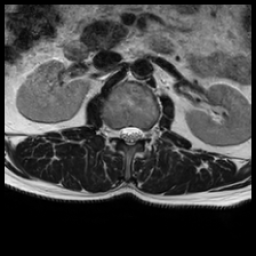CCS_normal: (125, 119, 133, 150)
LFS_normal: (141, 122, 150, 144)
LLS_normal: (133, 121, 141, 145)
RFS_normal: (110, 121, 118, 142)
RLS_normal: (118, 120, 125, 144)
